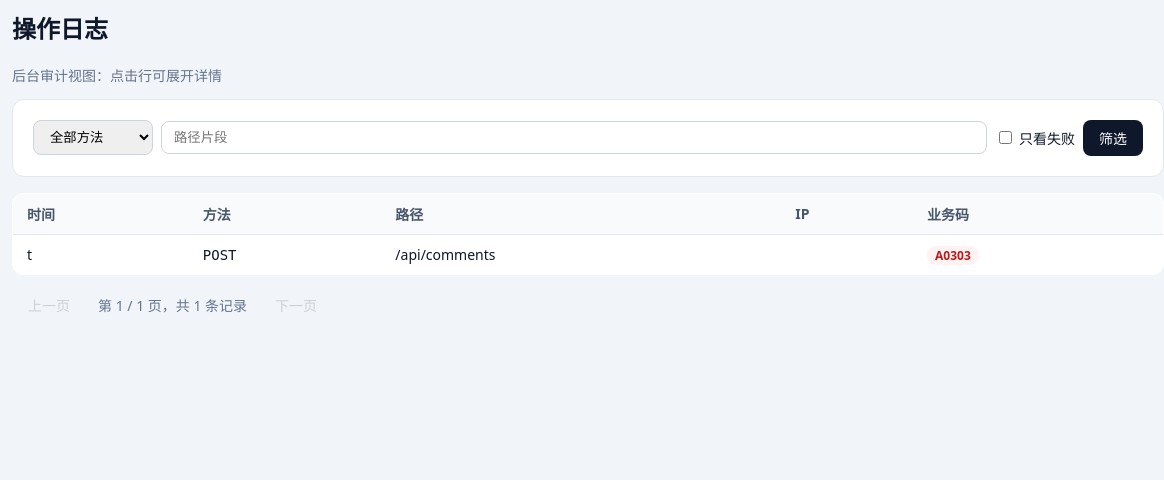
Test: Logs.vue › 详情里的用户优先显示用户名，匿名请求才落到 UID 或 -
Click the row "t POST /api/comments A0303": (588, 254) [12,234,1163,274]
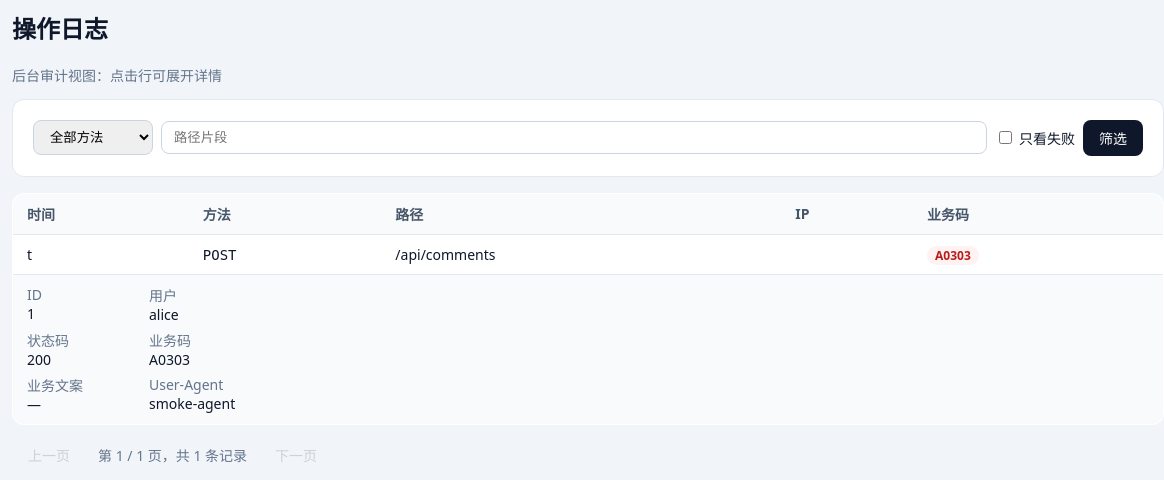
Expected: the text "alice" is shown, [149,305,179,324]
